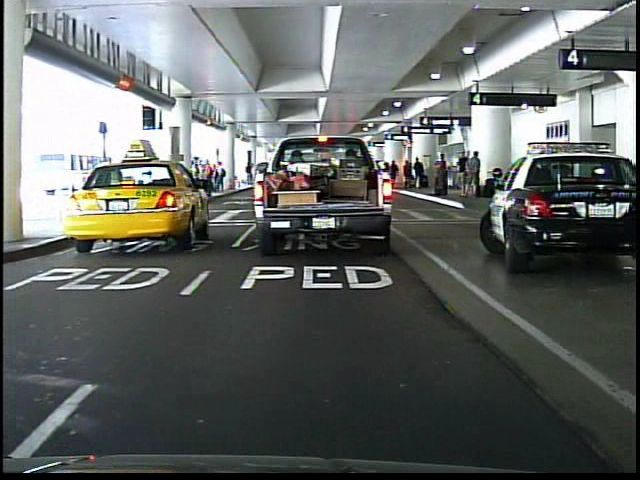person: (266, 148, 295, 222), (328, 144, 353, 206), (244, 160, 257, 188)
